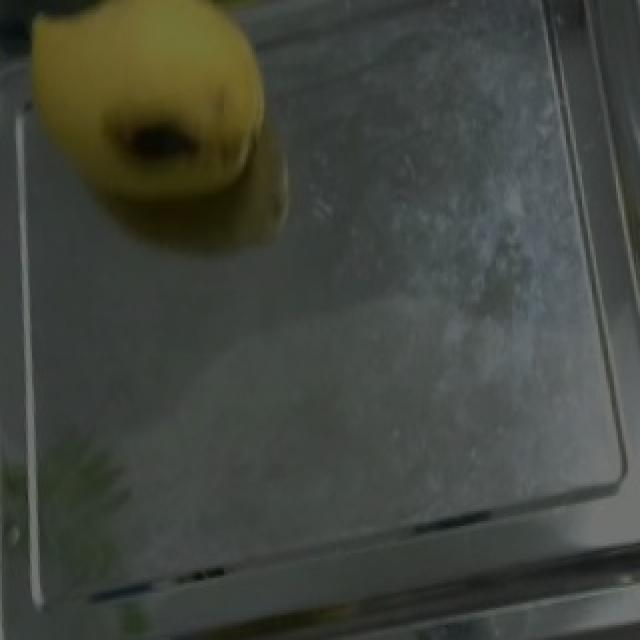fruit: (12, 0, 282, 166)
